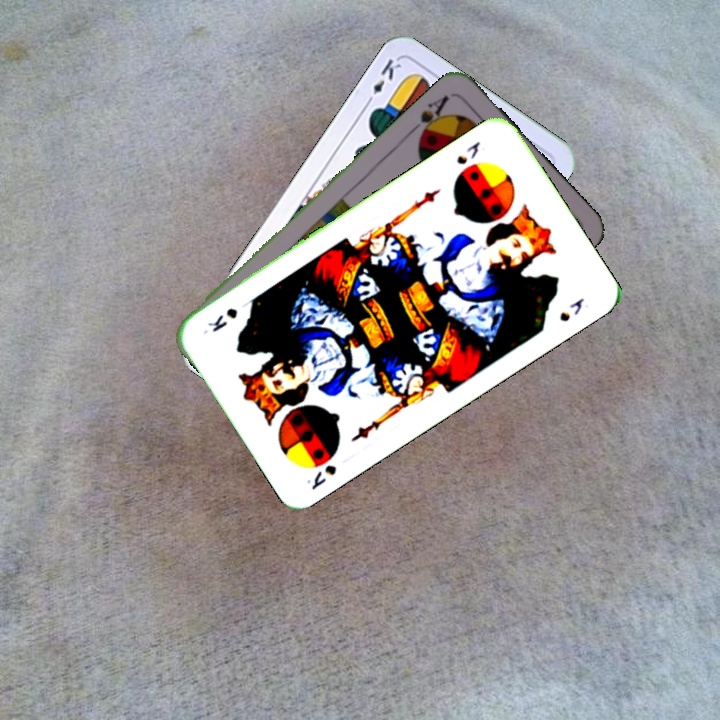EK: (361, 54, 404, 109)
SA: (406, 91, 452, 143)
SK: (302, 460, 340, 493), (452, 137, 483, 168)
